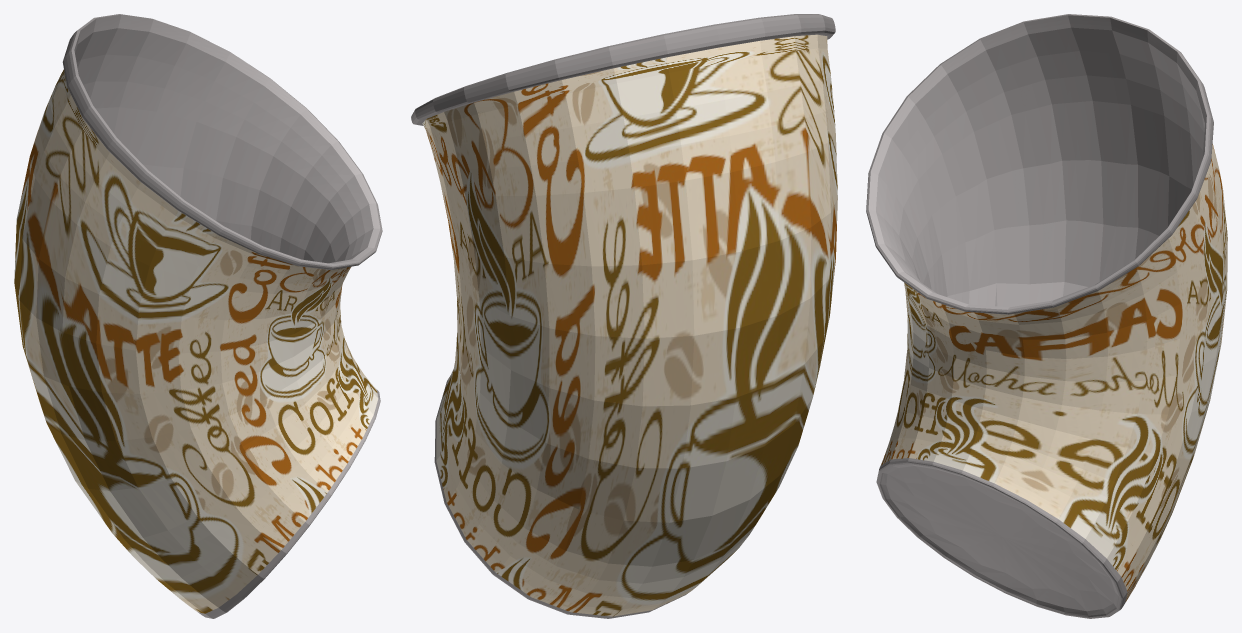
Rendered from bend_high_0.obj.
The picture shows the model from 3 angles, left to right: view 1: azimuth 30°, elevation 25°; view 2: azimuth 150°, elevation 25°; view 3: azimuth 270°, elevation 25°; orthographic projection. The views are drawn at different scales.
Visible parts, largest first — view 1: model; view 2: model; view 3: model.
Part boxes in pixels (box(x1,y1,x2,y2)): model: box(14, 14, 382, 618); model: box(411, 14, 837, 618); model: box(866, 14, 1227, 618).
Size of the model in its own units: 0.0828 by 0.137 by 0.0826.
Materials: 1 (1 with a texture image).
